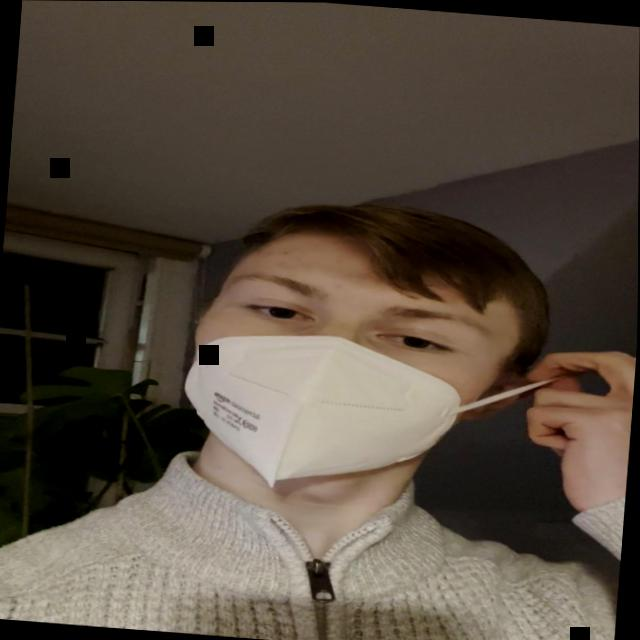Mask: (179, 233, 526, 503)
